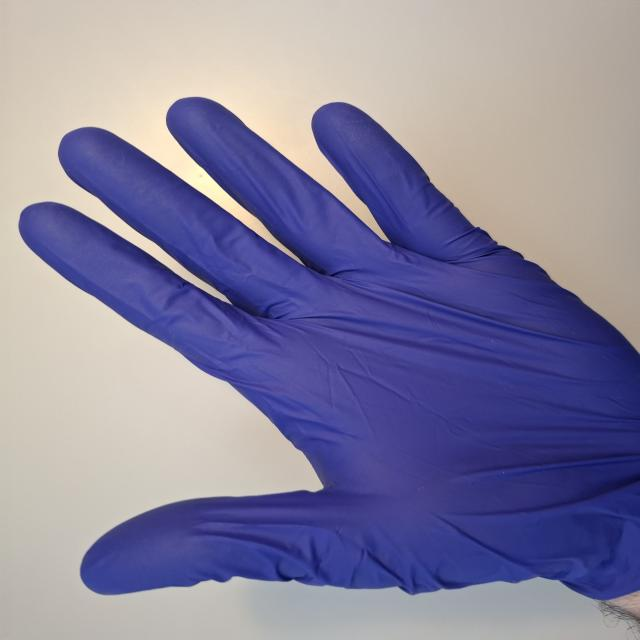glove_on: (15, 93, 640, 619)
